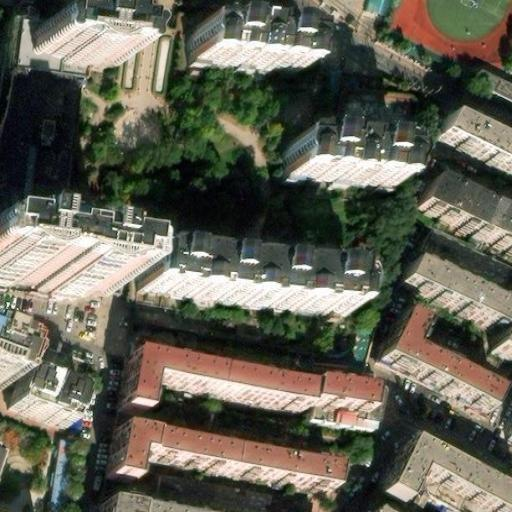building: (125, 359, 376, 423), (135, 248, 354, 319), (115, 422, 341, 478), (376, 313, 498, 410), (409, 260, 512, 356), (388, 441, 512, 512), (287, 134, 407, 188), (186, 31, 298, 84), (429, 177, 512, 247), (0, 257, 104, 307), (20, 32, 115, 77), (5, 371, 75, 427), (441, 115, 512, 169), (46, 438, 73, 512), (106, 498, 201, 512)
